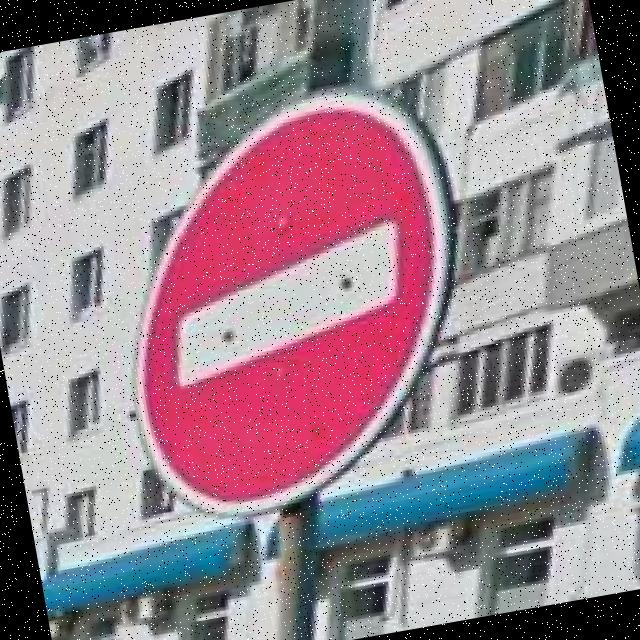Zakaz wjazdu: (86, 70, 498, 534)
